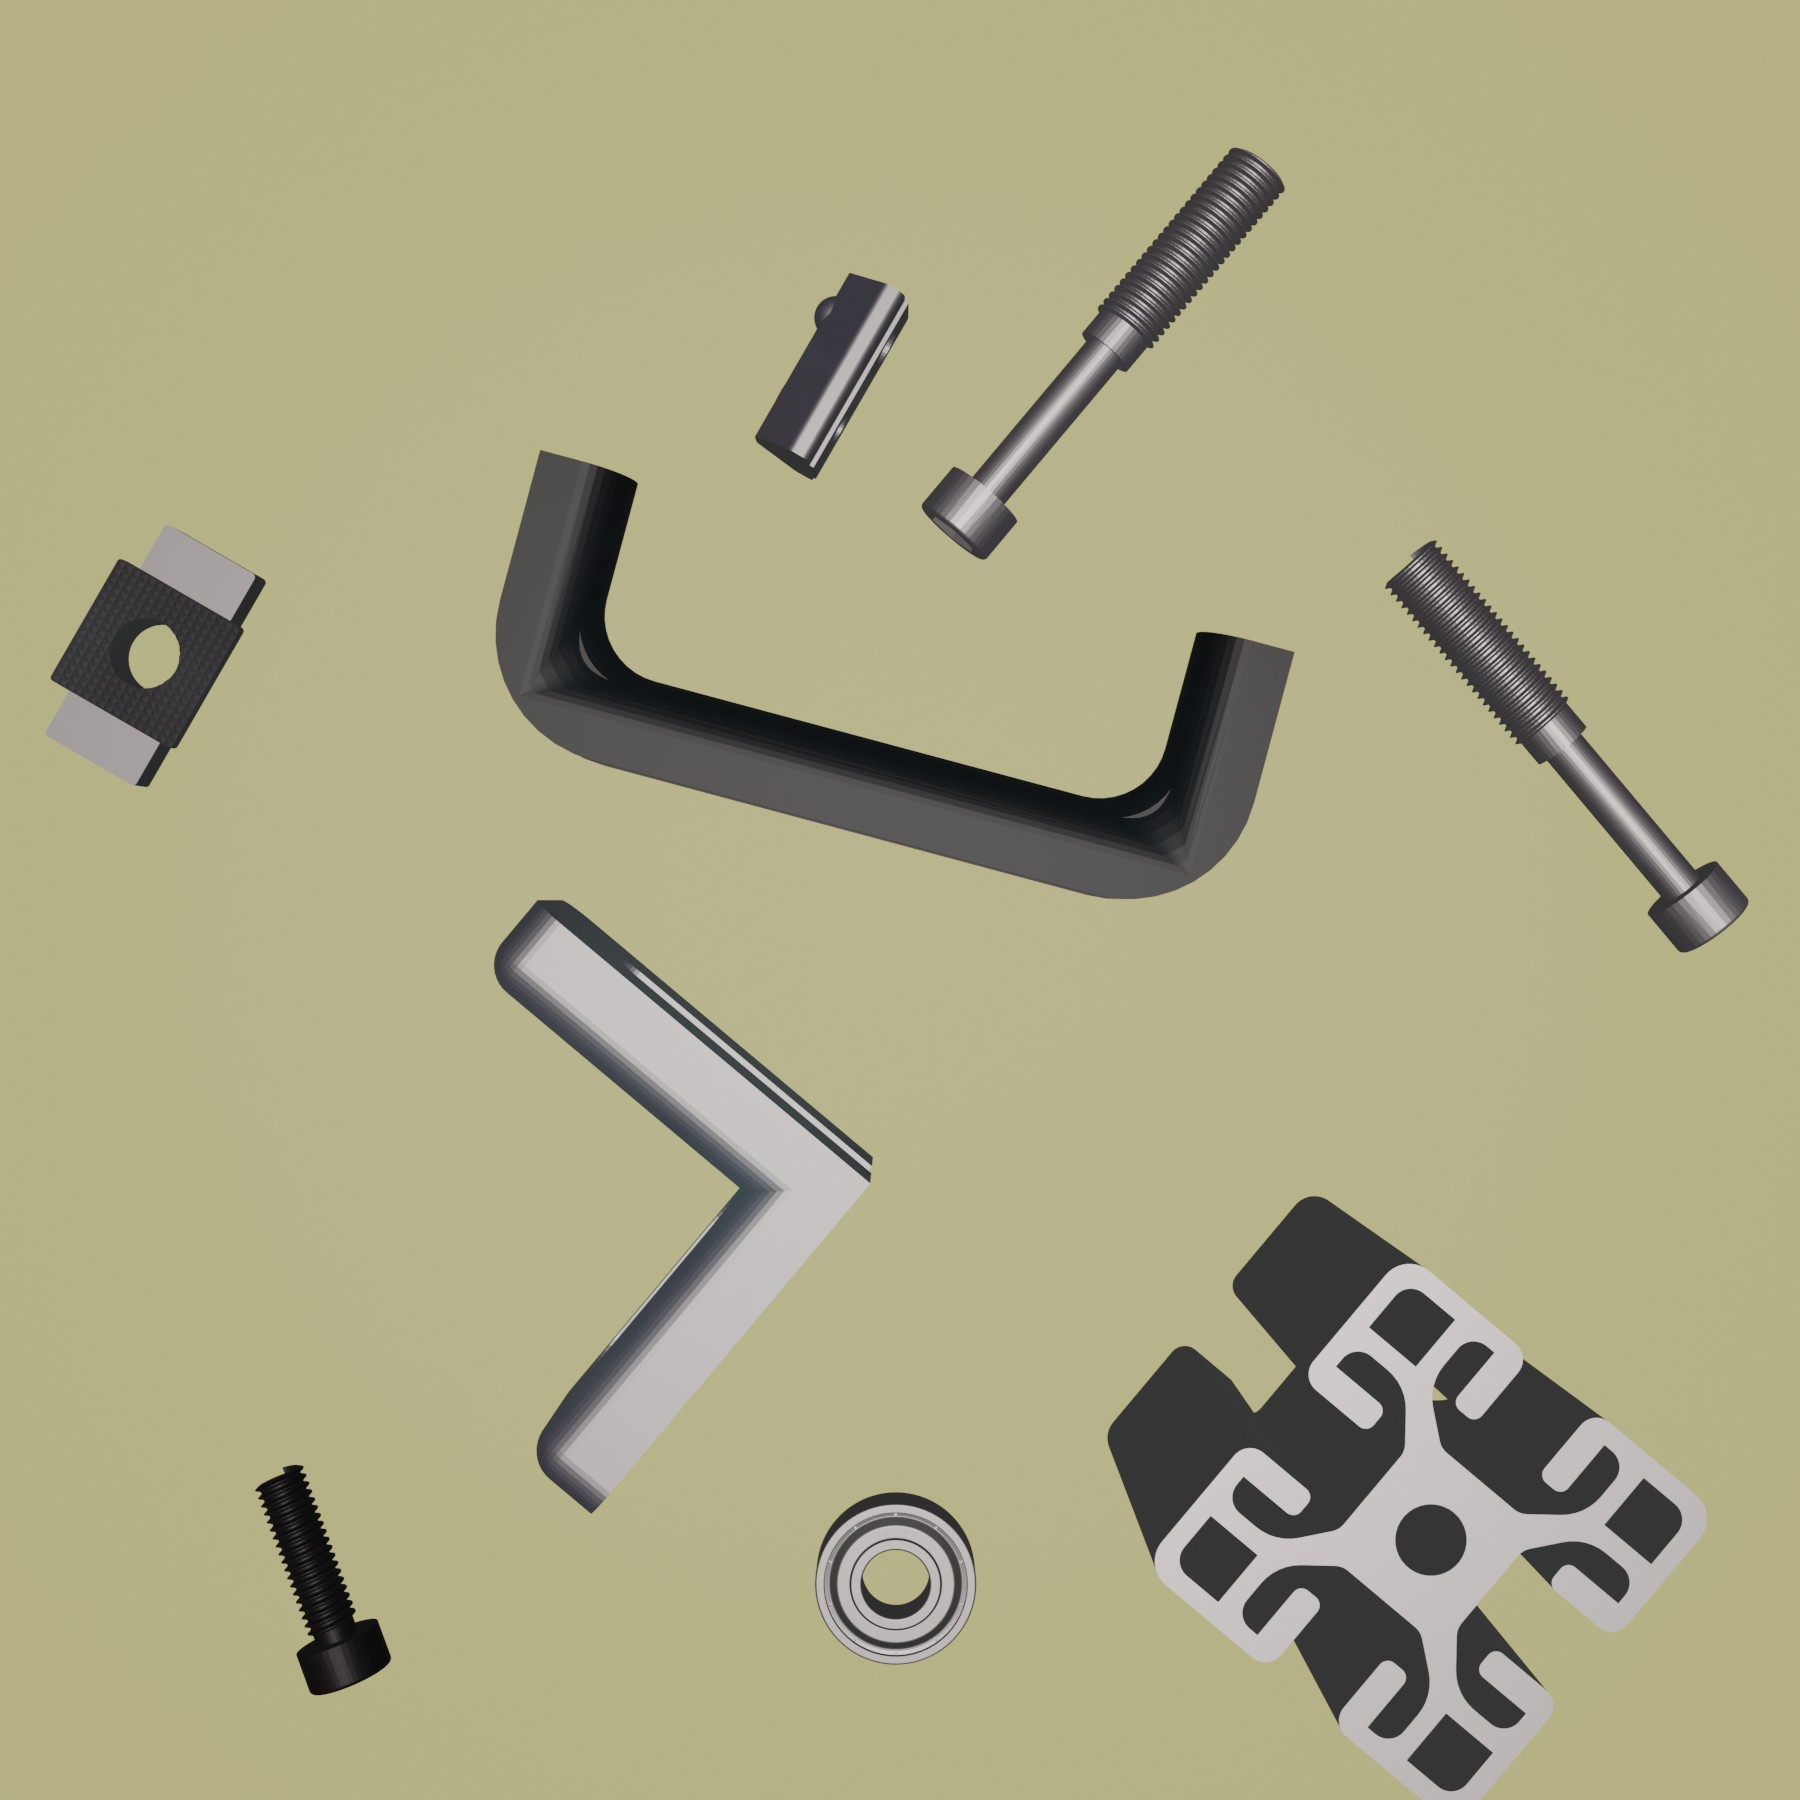Aluminium Extension: (1104, 1197, 1713, 1800)
Ball Bearing: (813, 1488, 979, 1668)
Multiwinkel: (490, 892, 877, 1520)
Pull Handle: (495, 447, 1297, 902)
Shoulder Socket Head Cap Screw: (1380, 536, 1751, 958), (920, 145, 1287, 562)
Socket Head Cap Screw: (254, 1459, 392, 1698)
T Nut Square: (45, 523, 270, 788)
T Spring Nut: (753, 272, 912, 481)
